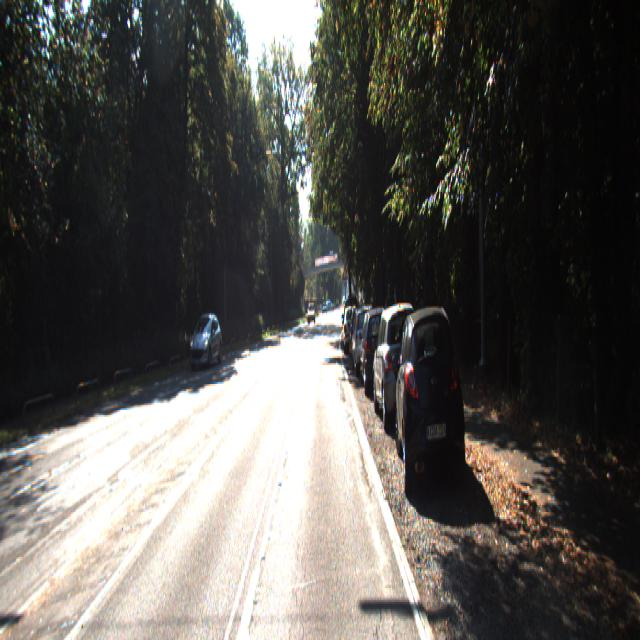Car: (394, 301, 468, 500), (372, 301, 427, 431), (360, 304, 393, 394), (350, 303, 380, 375), (188, 312, 222, 371), (343, 306, 360, 355)
